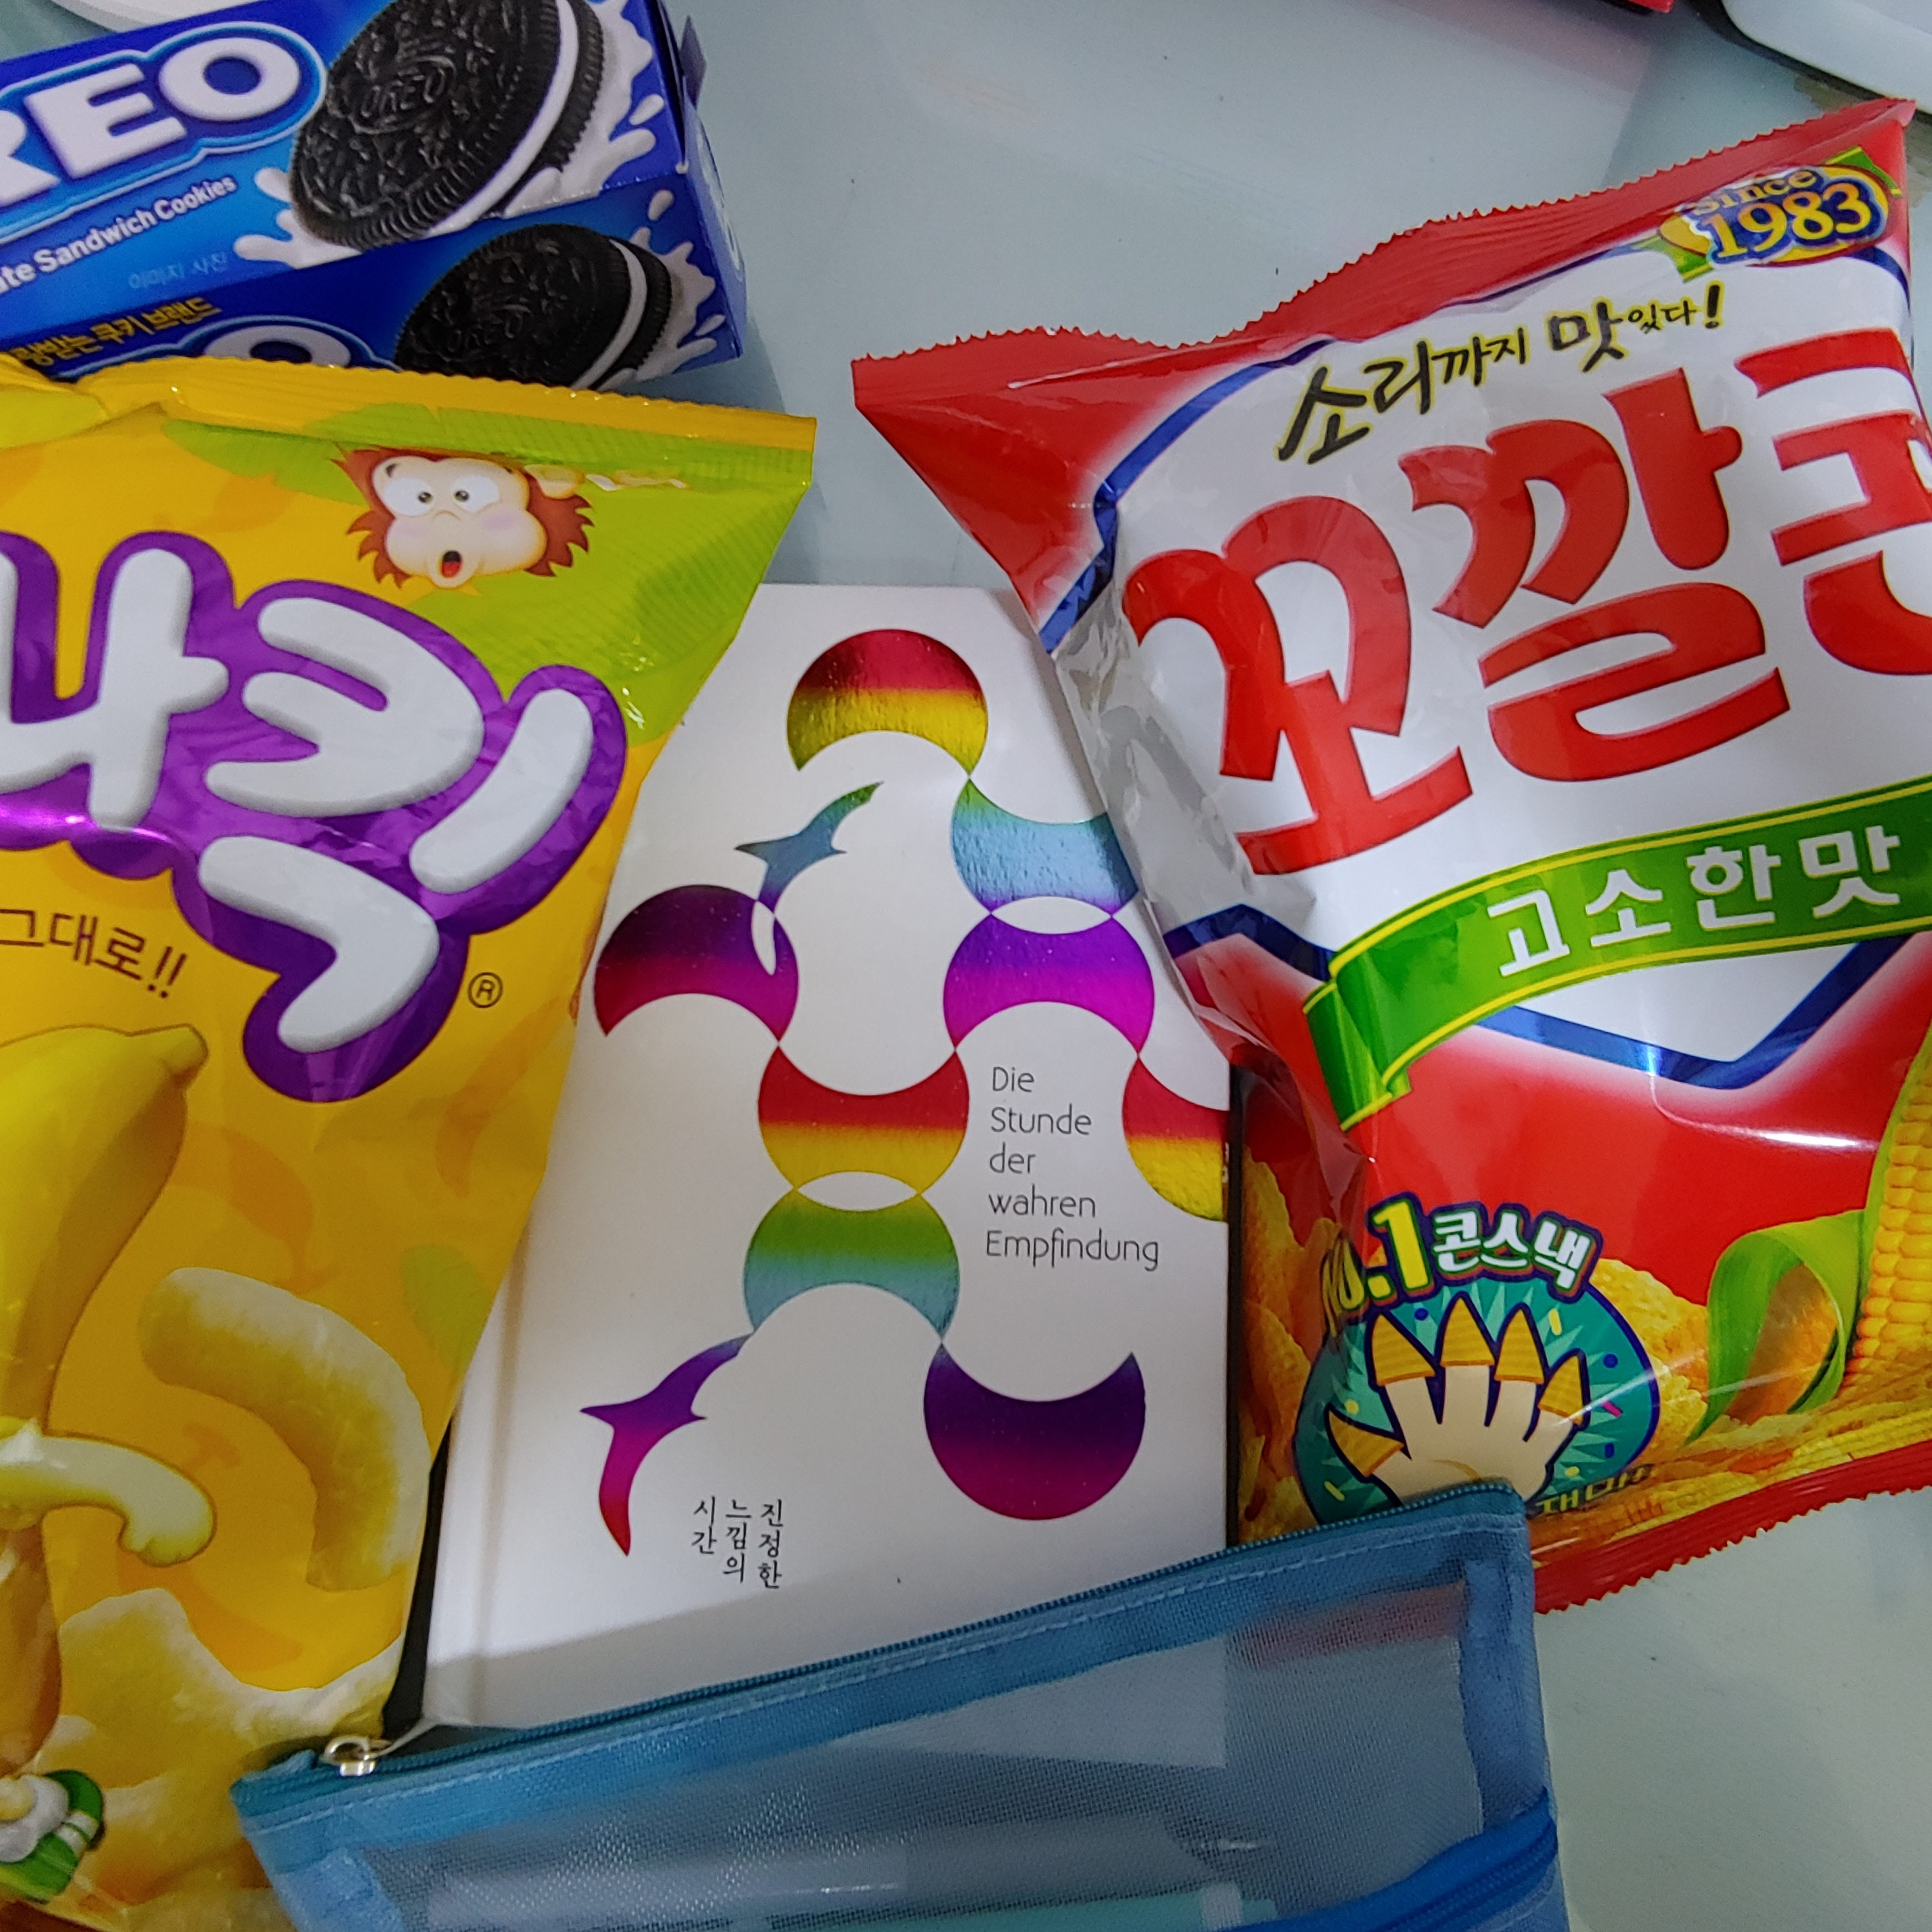banana: (5, 315, 855, 1932)
ggoggalcon: (812, 80, 1932, 1582)
oreo: (0, 5, 870, 430)
